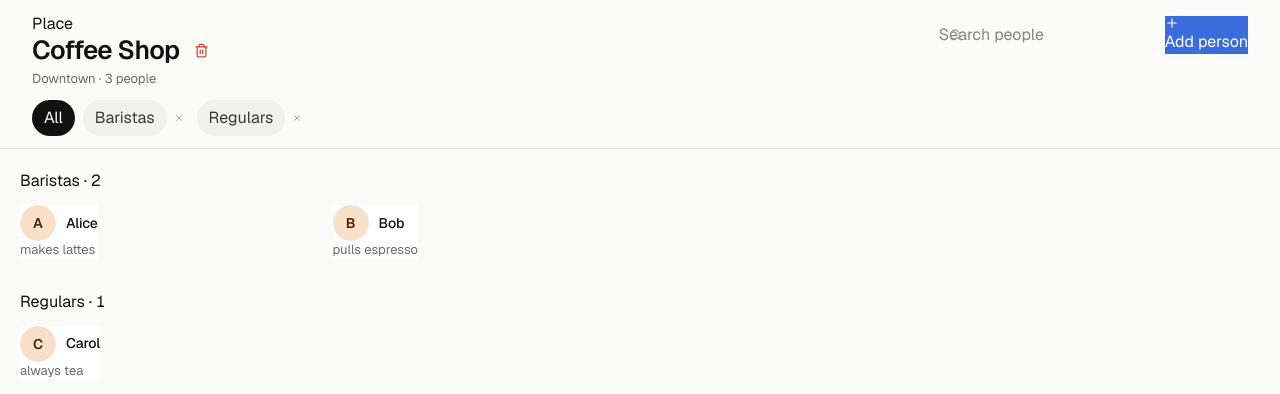
LocationDetailContent › shows an empty state when the search matches nobody
Type "zzz-no-match" into the field with placeholder "Search people" at (1048, 35), box x1=939 y1=23 x2=1157 y2=47
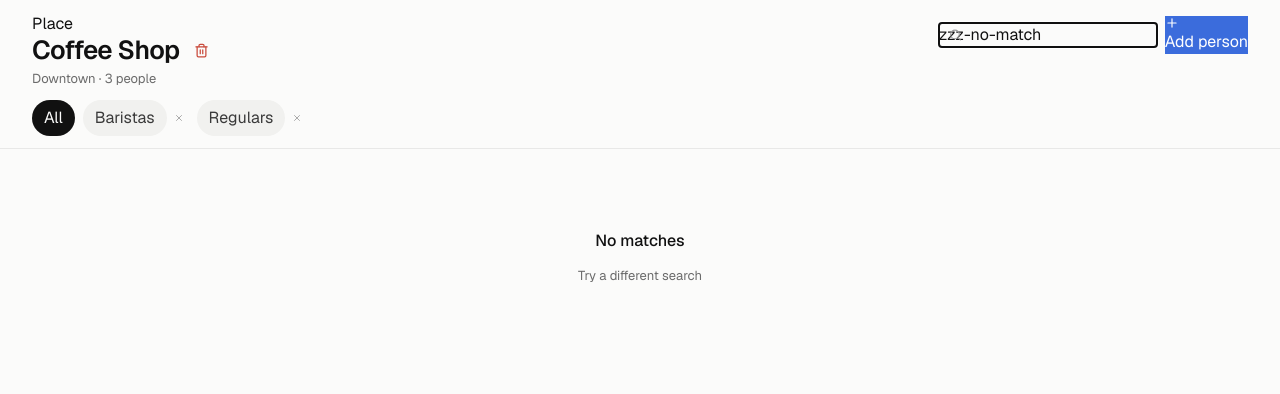
Check: the text "No matches" is shown, box x1=595 y1=229 x2=685 y2=253
Check: the button "Alice" is gone
